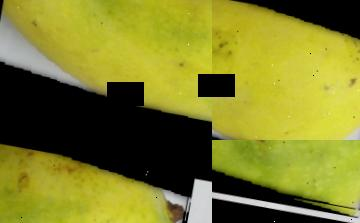PartiallyRipe: (0, 140, 193, 223), (212, 140, 360, 217)
Ripe: (0, 0, 212, 140), (212, 0, 360, 140)
